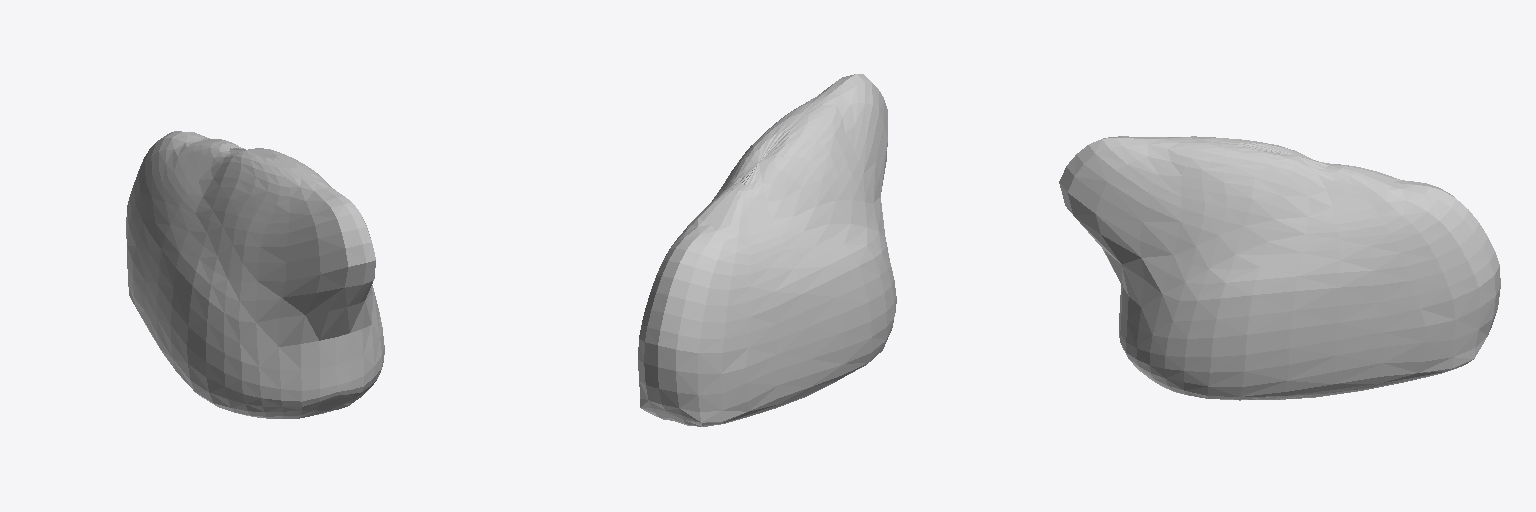
The model's file is Anthro vag base.obj.
The picture shows the model from 3 angles: view 1: azimuth 30°, elevation 25°; view 2: azimuth 150°, elevation 25°; view 3: azimuth 270°, elevation 25°; orthographic projection.
Parts seen in each view (by area): view 1: vag_base.005_Mesh1_Component_4_1_Component_6_1_Model.004; view 2: vag_base.005_Mesh1_Component_4_1_Component_6_1_Model.004; view 3: vag_base.005_Mesh1_Component_4_1_Component_6_1_Model.004.
Boxes of the visible parts, box(x1,y1,x2,y2) form: vag_base.005_Mesh1_Component_4_1_Component_6_1_Model.004: box(126, 131, 384, 418); vag_base.005_Mesh1_Component_4_1_Component_6_1_Model.004: box(638, 74, 896, 426); vag_base.005_Mesh1_Component_4_1_Component_6_1_Model.004: box(1059, 136, 1500, 400).
Bounding box in the file's own units: 1.87 × 2.46 × 4.16.